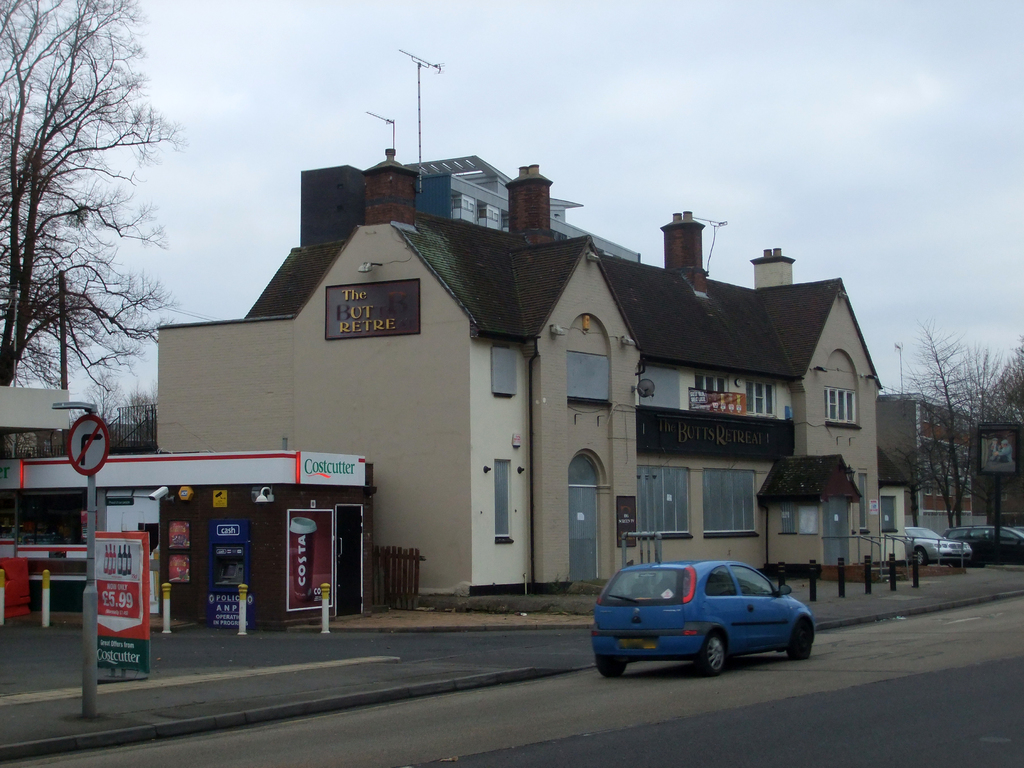Car: (590, 558, 817, 678), (944, 522, 1023, 564), (900, 524, 971, 567)
